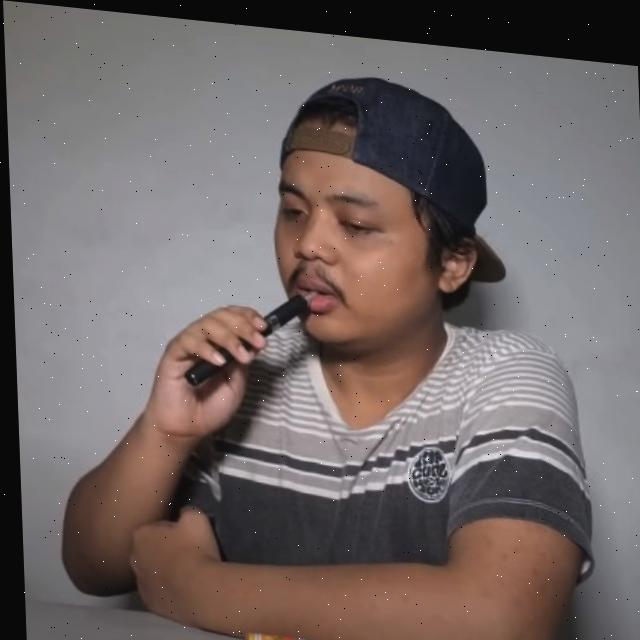vape: (178, 273, 319, 394)
